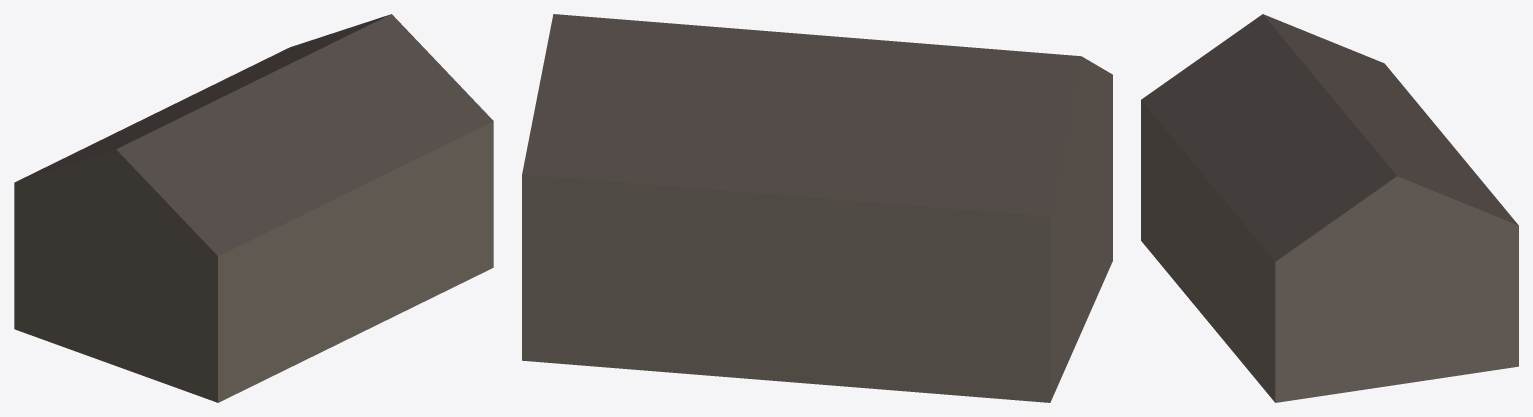
3 views of the same model, side by side, from view 1: azimuth 30°, elevation 25°; view 2: azimuth 150°, elevation 25°; view 3: azimuth 270°, elevation 25° (orthographic). The views are drawn at different scales.
Visible parts, largest first — view 1: HP-w1287936345; view 2: HP-w1287936345; view 3: HP-w1287936345.
Part boxes in pixels (x1,y1,x2,y2): HP-w1287936345: (14,14,493,402); HP-w1287936345: (522,14,1112,402); HP-w1287936345: (1141,14,1518,402).
Bounding box in the file's own units: 18.11 × 8.87 × 14.57.
